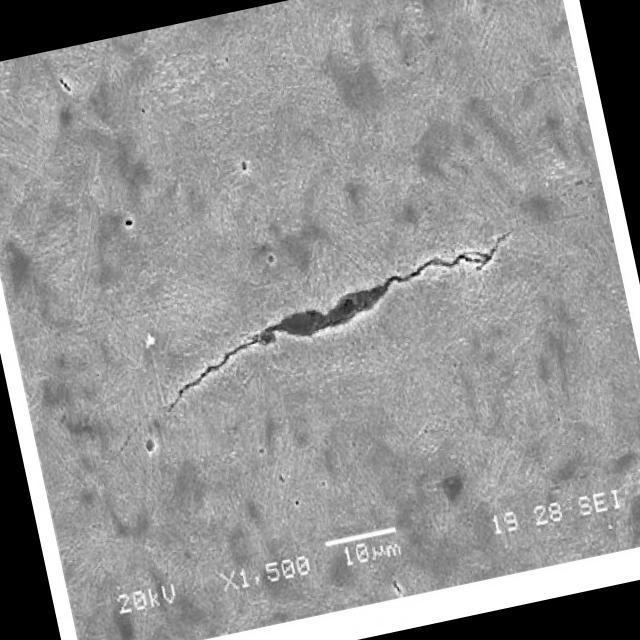defect: (155, 227, 522, 427)
